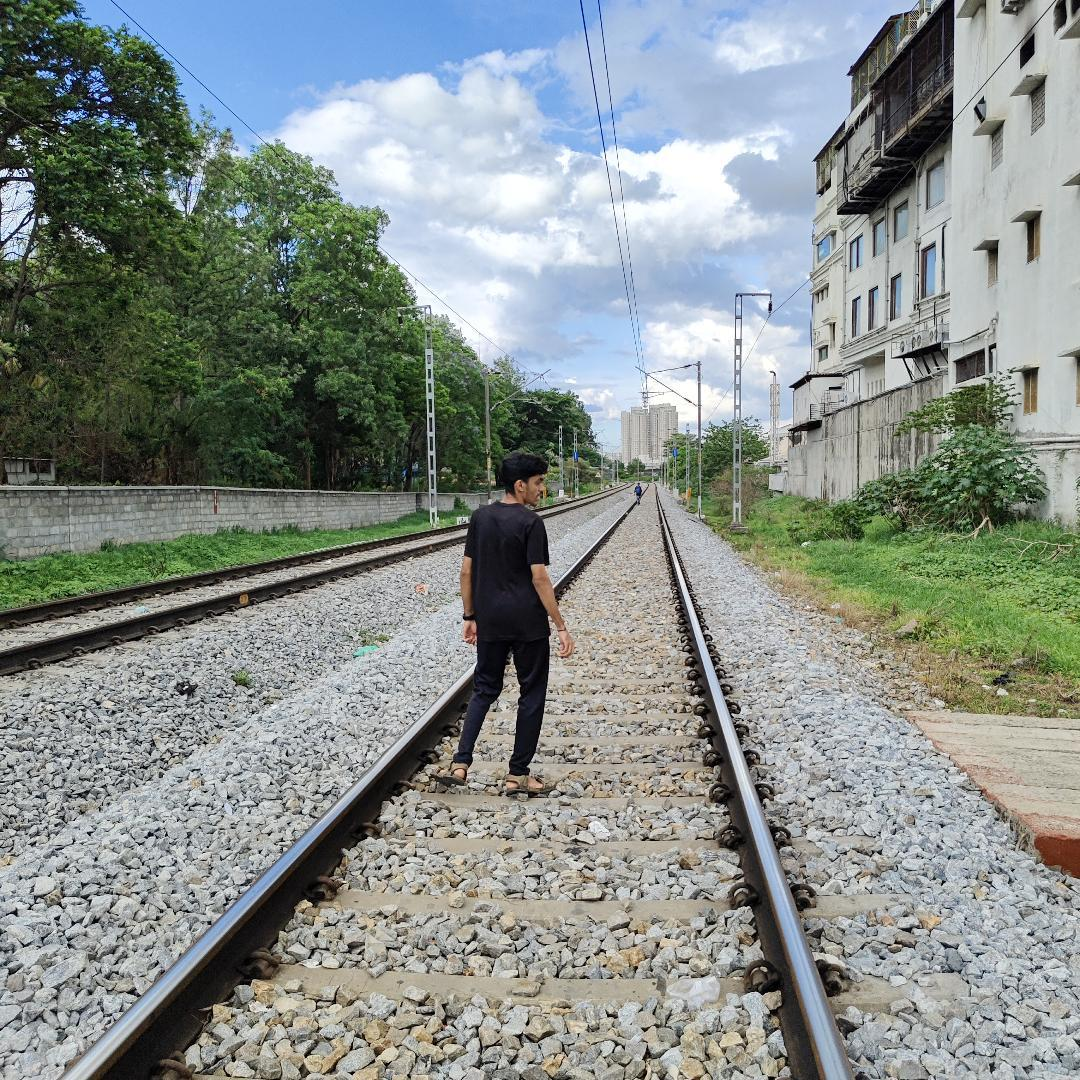standing: (462, 443, 572, 801)
